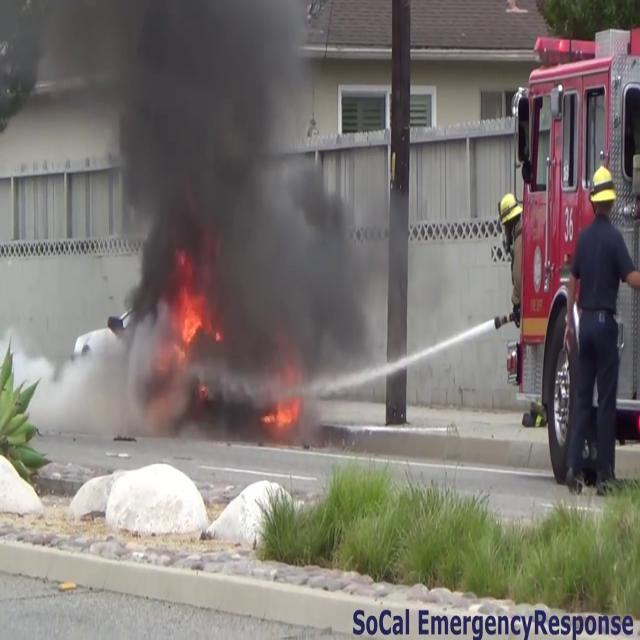Fire: (164, 258, 213, 378)
Smoke: (88, 1, 378, 396)
